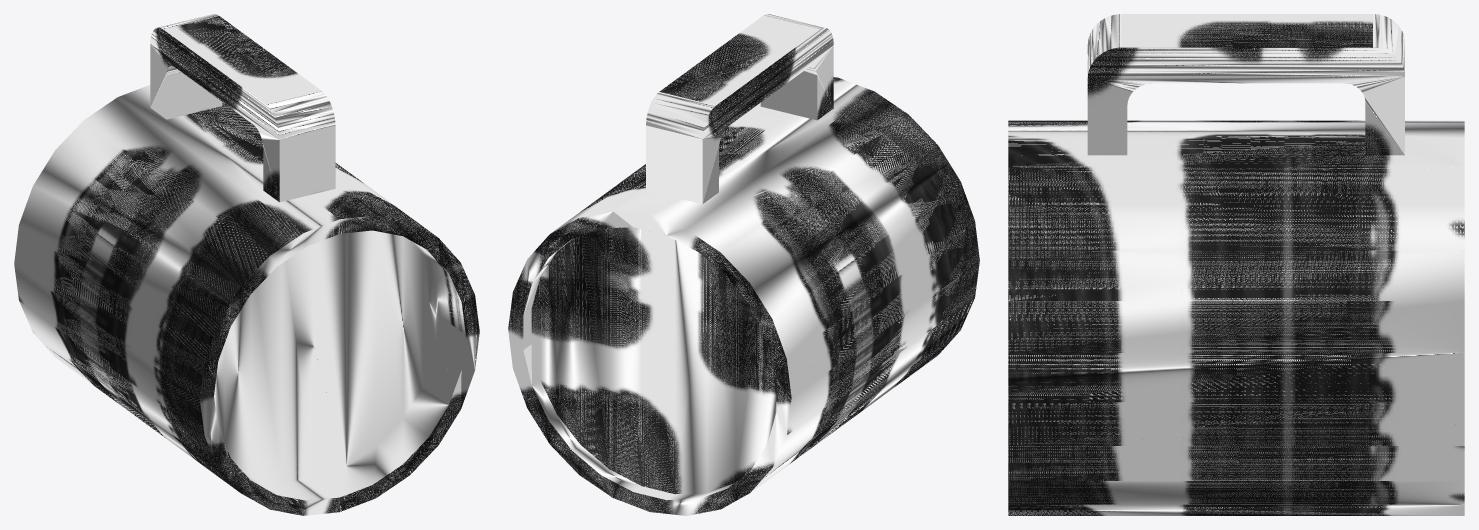
Rendered from model_align.obj.
3 views of the same model, side by side, from view 1: azimuth 30°, elevation 25°; view 2: azimuth 150°, elevation 25°; view 3: azimuth 270°, elevation 25° (orthographic). The views are drawn at different scales.
Size of the model in its own units: 0.0929 by 0.1207 by 0.1068.
